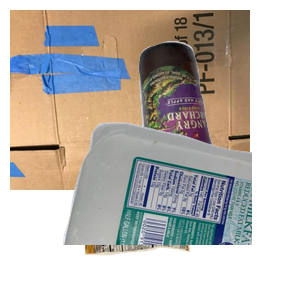cardboard: (10, 10, 250, 190)
glass: (136, 39, 300, 219)
plastic: (60, 120, 300, 300)
trash: (76, 159, 259, 300)
